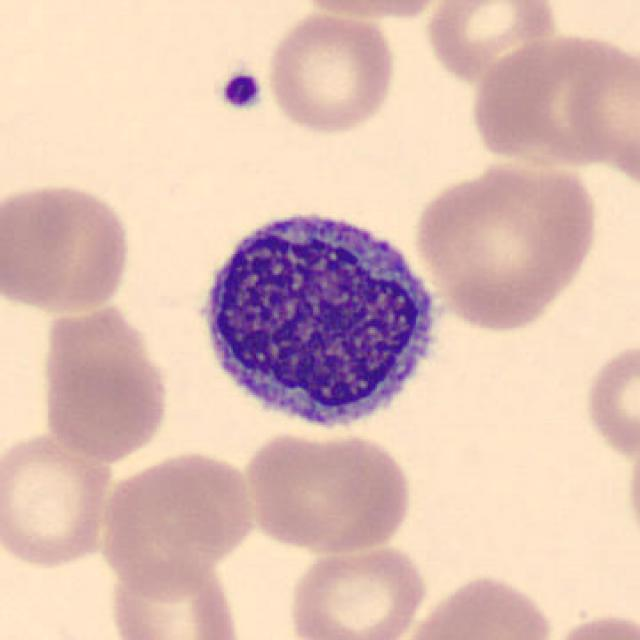Monocyte: (183, 194, 452, 442)
Platelets: (215, 65, 267, 115)
RBC: (409, 155, 601, 333), (466, 26, 638, 173), (94, 446, 258, 592), (238, 425, 416, 555), (36, 302, 176, 466), (0, 176, 137, 318), (263, 7, 400, 138), (0, 428, 117, 571), (284, 537, 430, 640), (422, 0, 564, 88), (104, 553, 245, 640), (396, 569, 558, 640), (580, 335, 638, 471), (282, 0, 460, 21), (538, 606, 640, 640), (624, 421, 640, 559)
